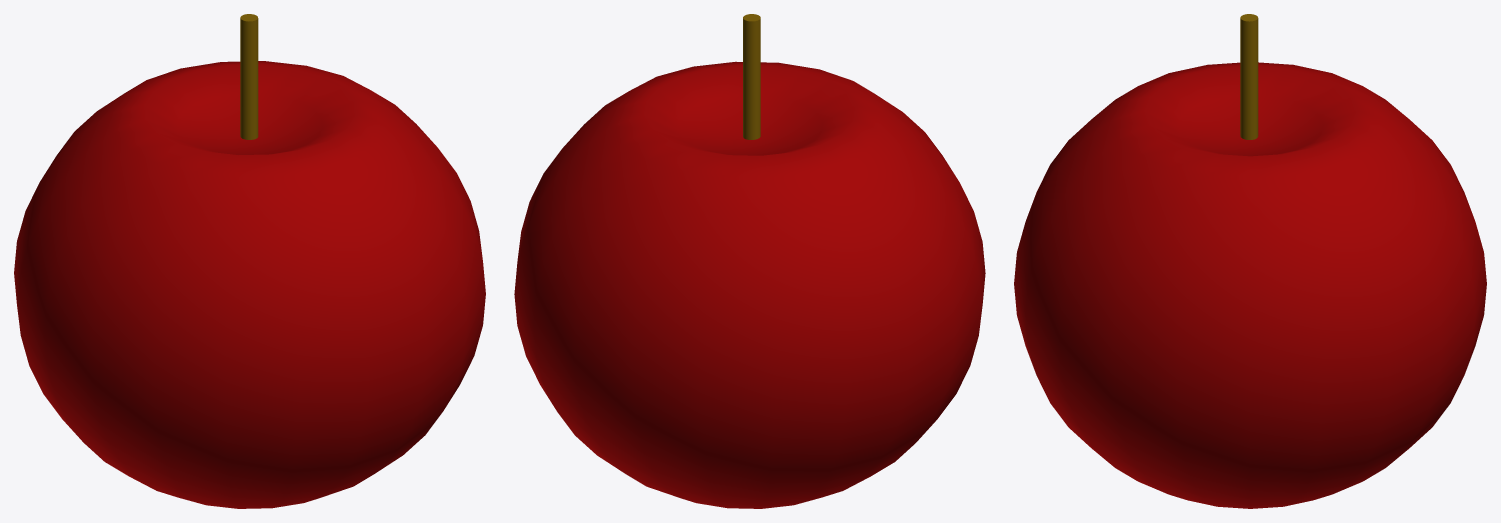
File: ringo.fbx
The picture shows the model from 3 angles, left to right: view 1: azimuth 30°, elevation 25°; view 2: azimuth 150°, elevation 25°; view 3: azimuth 270°, elevation 25°; orthographic projection.
Visible parts, largest first — view 1: pasted__pasted__pSphere3, pCylinder4; view 2: pasted__pasted__pSphere3, pCylinder4; view 3: pasted__pasted__pSphere3, pCylinder4.
Part boxes in pixels (box(x1,y1,x2,y2)): pasted__pasted__pSphere3: box(14, 61, 485, 508); pCylinder4: box(240, 14, 258, 139); pasted__pasted__pSphere3: box(514, 61, 985, 508); pCylinder4: box(743, 14, 760, 139); pasted__pasted__pSphere3: box(1014, 62, 1486, 508); pCylinder4: box(1240, 14, 1258, 139).
Bounding box in the file's own units: 0.5313 × 0.579 × 0.5313.
